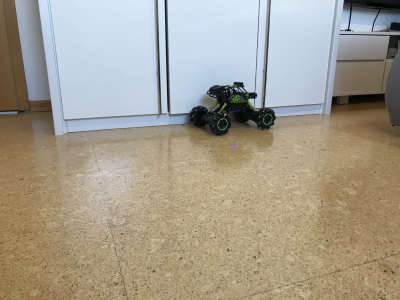remote control car: (187, 78, 278, 137)
